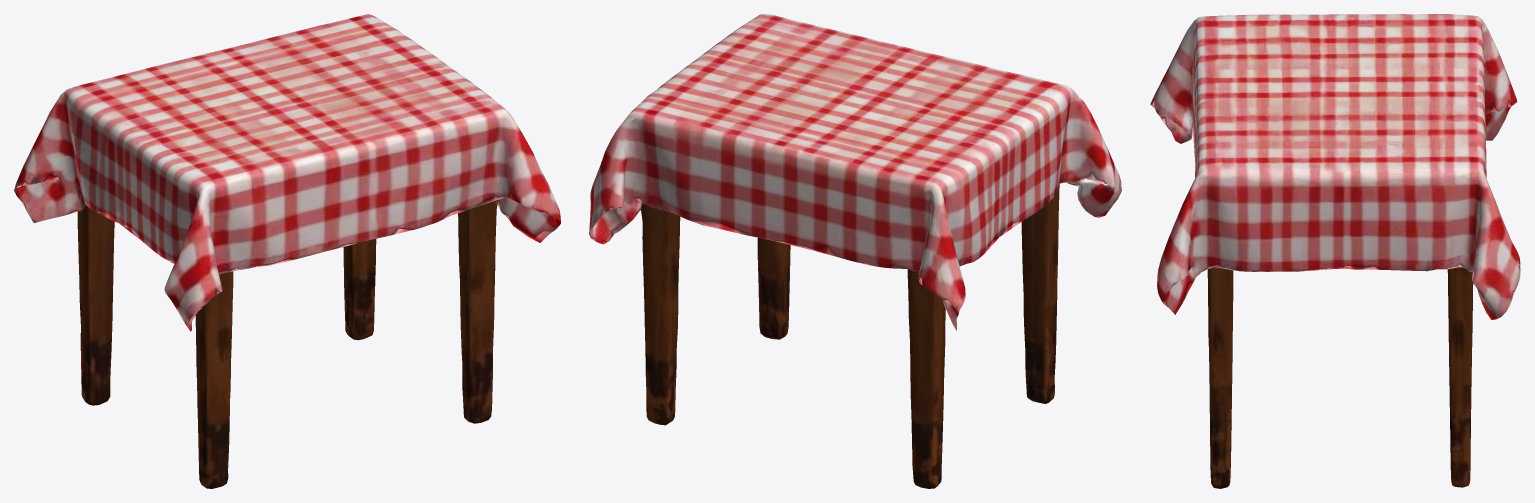
File: mesa.glb
The picture shows the model from 3 angles, left to right: view 1: azimuth 30°, elevation 25°; view 2: azimuth 150°, elevation 25°; view 3: azimuth 270°, elevation 25°; orthographic projection. The views are drawn at different scales.
Parts seen in each view (by area): view 1: geometry_0; view 2: geometry_0; view 3: geometry_0.
Boxes of the visible parts, bbox=[...] form: geometry_0: bbox=[14, 14, 560, 488]; geometry_0: bbox=[589, 14, 1121, 488]; geometry_0: bbox=[1150, 14, 1520, 488].
Bounding box in the file's own units: 1 × 0.78 × 0.8.
Materials: 1 (1 with a texture image).
